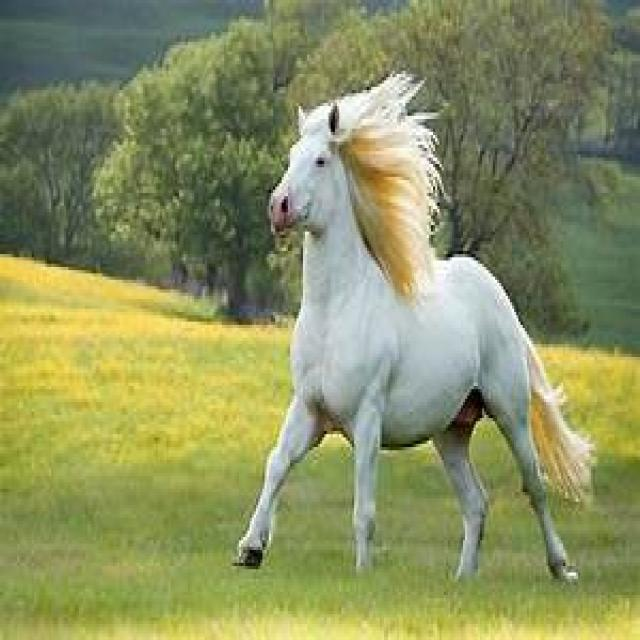horse: (233, 71, 591, 585)
